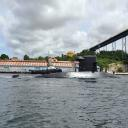submarine: (34, 55, 123, 80)
